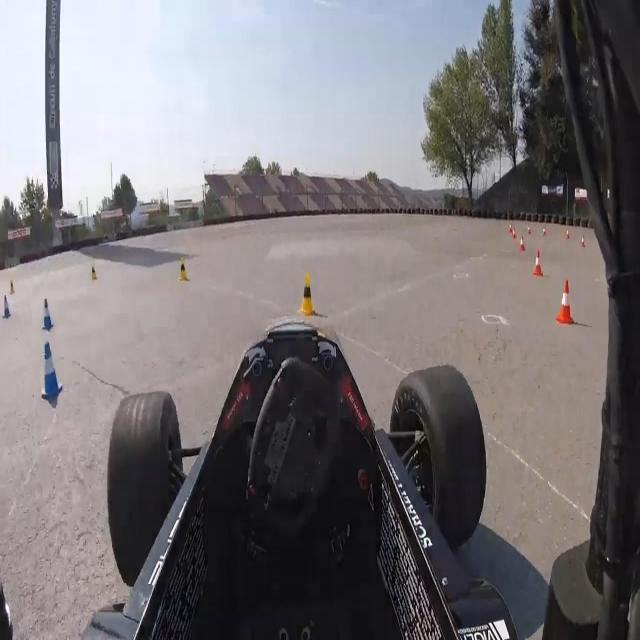blue_cone: (39, 342, 64, 400), (40, 298, 54, 330), (2, 294, 12, 321)
orange_cone: (556, 277, 574, 326), (531, 249, 544, 278), (519, 233, 526, 253), (581, 234, 586, 247), (512, 227, 517, 240), (565, 229, 570, 240), (542, 227, 547, 237), (508, 222, 512, 233), (527, 225, 531, 235)
yellow_cone: (298, 271, 317, 319), (178, 256, 190, 283), (7, 278, 16, 296), (90, 265, 99, 282)
